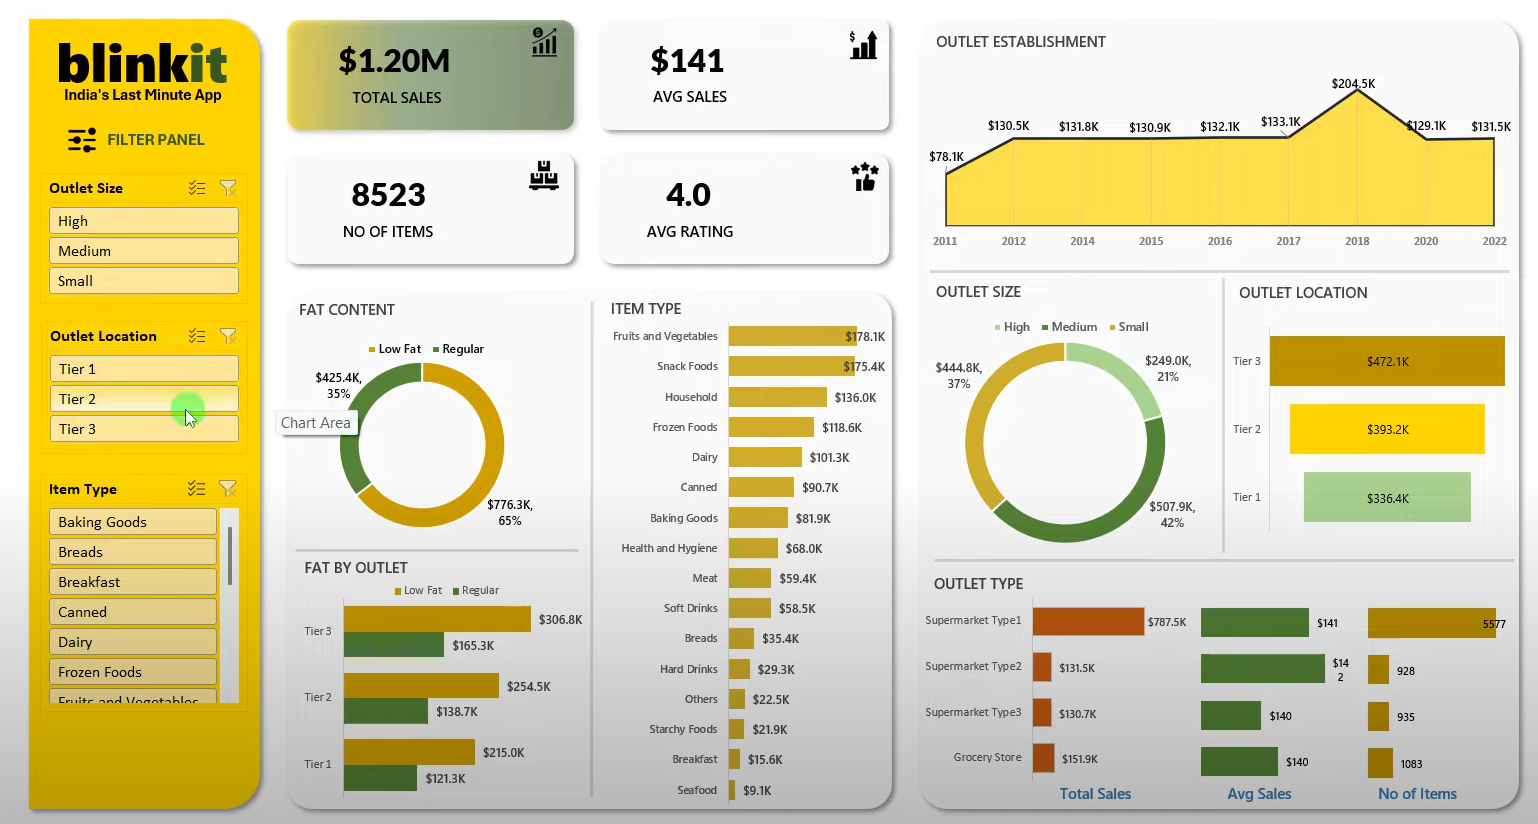

Layout of this report page (visuals, bound fields, positions):
{"tool":"powerbi","page":{"name":"Home page","canvas":[1400,800],"ordinal":0},"visuals":[{"type":"shape","box":[11.4,6.7,210,777.1],"z":0},{"type":"textbox","box":[34.3,23.4,165.7,75.7],"z":1000},{"type":"textbox","box":[34.3,79.1,165.7,35.7],"z":2000},{"type":"cardVisual","fields":{"Data":["BlinkIT Grocery Data.Total Sales","BlinkIT Grocery Data.Average Sales","BlinkIT Grocery Data.No Of Items","BlinkIT Grocery Data.Average Rating"]},"box":[221.4,0,570,270],"z":3000},{"type":"shape","box":[230,252.9,552.9,531.4],"z":4000},{"type":"donutChart","title":"FAT CONTENT","fields":{"Y":["BlinkIT Grocery Data.Total Sales"],"Category":["BlinkIT Grocery Data.Item Fat Content"]},"box":[248.6,301,220,230],"z":5000},{"type":"slicer","fields":{"Values":["Metrics.Metrics"]},"box":[274.3,263.7,465.7,40],"z":6000},{"type":"cardVisual","fields":{"Data":["BlinkIT Grocery Data.Total Sales"]},"box":[307.1,401.6,102.9,75.7],"z":7000},{"type":"clusteredBarChart","title":"FAT BY OUTLET","fields":{"Y":["BlinkIT Grocery Data.Total Sales"],"Category":["BlinkIT Grocery Data.Outlet Location Type"],"Series":["BlinkIT Grocery Data.Item Fat Content"]},"box":[248.6,545.7,220,230],"z":8000},{"type":"shape","box":[258.6,524.3,200,20],"z":9000},{"type":"shape","box":[472.9,315.7,12.9,445.7],"z":10000},{"type":"barChart","title":"ITEM TYPE","fields":{"Y":["BlinkIT Grocery Data.Total Sales"],"Category":["BlinkIT Grocery Data.Item Type"]},"box":[485.7,300,280,475.7],"z":11000},{"type":"shape","box":[790.9,10,608.6,774.3],"z":12000},{"type":"lineChart","title":"OUTLET ESTABLISHMENT","fields":{"Y":["BlinkIT Grocery Data.Total Sales"],"Category":["BlinkIT Grocery Data.Outlet Establishment Year"]},"box":[810,37.1,571.4,235.7],"z":13000},{"type":"shape","box":[810,271.4,571.4,30],"z":14000},{"type":"donutChart","title":"OUTLET SIZE","fields":{"Y":["BlinkIT Grocery Data.Total Sales"],"Category":["BlinkIT Grocery Data.Outlet Size"]},"box":[810,304.7,275.7,225.7],"z":15000},{"type":"shape","box":[1085.7,334.7,12.9,181.4],"z":16000},{"type":"funnel","title":"OUTLET LOCATION","fields":{"Y":["Sum(BlinkIT Grocery Data.Sales)"],"Category":["BlinkIT Grocery Data.Outlet Location Type"]},"box":[1105.7,304.7,275.7,225.7],"z":17000},{"type":"shape","box":[807.1,534.3,571.4,30],"z":18000},{"type":"pivotTable","title":"OUTLET TYPE","fields":{"Rows":["BlinkIT Grocery Data.Outlet Type"],"Values":["BlinkIT Grocery Data.Total Sales","BlinkIT Grocery Data.No Of Items","BlinkIT Grocery Data.Average Sales","BlinkIT Grocery Data.Average Rating","Avg(BlinkIT Grocery Data.Item Visibility)"]},"box":[805.7,568.6,580,204.3],"z":19000},{"type":"slicer","fields":{"Values":["BlinkIT Grocery Data.Outlet Location Type"]},"box":[30,216.7,174.3,71.4],"z":20000},{"type":"slicer","fields":{"Values":["BlinkIT Grocery Data.Outlet Size"]},"box":[30,306.7,174.3,71.4],"z":21000},{"type":"slicer","fields":{"Values":["BlinkIT Grocery Data.Item Type"]},"box":[30,398.1,174.3,71.4],"z":22000},{"type":"textbox","box":[68.6,176.7,121.4,37.1],"z":23000},{"type":"image","box":[30,168.1,40,50],"z":24000},{"type":"image","box":[81.4,469.6,65.7,65.7],"z":25000},{"type":"image","box":[81.4,542.4,65.7,40],"z":26000},{"type":"image","box":[94.3,598.1,40,40],"z":27000},{"type":"image","box":[90,648.1,50,50],"z":28000},{"type":"textbox","box":[30,720,174.3,55.7],"z":29000},{"type":"image","box":[443.9,71.2,47.1,54.7],"z":30000},{"type":"image","box":[726.2,200.9,47.1,54.7],"z":31000},{"type":"image","box":[443.9,202.2,47.1,54.7],"z":32000},{"type":"image","box":[724.9,71.2,47.1,54.7],"z":33000},{"type":"image","box":[1339.2,16.5,47.1,54.7],"z":34000},{"type":"image","box":[726.2,260.7,47.1,54.7],"z":35000}]}

Visuals, with their boxes on the page's 1400x800 design canvas (x1, y1, x2, y2). These are canvas units, not pixel positions in the 1538x824 screenshot, which may show the page scaled, cropped or inside an application window:
shape: rect(11, 7, 221, 784)
textbox: rect(34, 23, 200, 99)
textbox: rect(34, 79, 200, 115)
cardVisual - BlinkIT Grocery Data.Total Sales x BlinkIT Grocery Data.Average Sales: rect(221, 0, 791, 270)
shape: rect(230, 253, 783, 784)
"FAT CONTENT" donutChart: rect(249, 301, 469, 531)
slicer - Metrics.Metrics: rect(274, 264, 740, 304)
cardVisual - BlinkIT Grocery Data.Total Sales: rect(307, 402, 410, 477)
"FAT BY OUTLET" clusteredBarChart: rect(249, 546, 469, 776)
shape: rect(259, 524, 459, 544)
shape: rect(473, 316, 486, 761)
"ITEM TYPE" barChart: rect(486, 300, 766, 776)
shape: rect(791, 10, 1400, 784)
"OUTLET ESTABLISHMENT" lineChart: rect(810, 37, 1381, 273)
shape: rect(810, 271, 1381, 301)
"OUTLET SIZE" donutChart: rect(810, 305, 1086, 530)
shape: rect(1086, 335, 1099, 516)
"OUTLET LOCATION" funnel: rect(1106, 305, 1381, 530)
shape: rect(807, 534, 1378, 564)
"OUTLET TYPE" pivotTable: rect(806, 569, 1386, 773)
slicer - BlinkIT Grocery Data.Outlet Location Type: rect(30, 217, 204, 288)
slicer - BlinkIT Grocery Data.Outlet Size: rect(30, 307, 204, 378)
slicer - BlinkIT Grocery Data.Item Type: rect(30, 398, 204, 470)
textbox: rect(69, 177, 190, 214)
image: rect(30, 168, 70, 218)
image: rect(81, 470, 147, 535)
image: rect(81, 542, 147, 582)
image: rect(94, 598, 134, 638)
image: rect(90, 648, 140, 698)
textbox: rect(30, 720, 204, 776)
image: rect(444, 71, 491, 126)
image: rect(726, 201, 773, 256)
image: rect(444, 202, 491, 257)
image: rect(725, 71, 772, 126)
image: rect(1339, 16, 1386, 71)
image: rect(726, 261, 773, 315)
